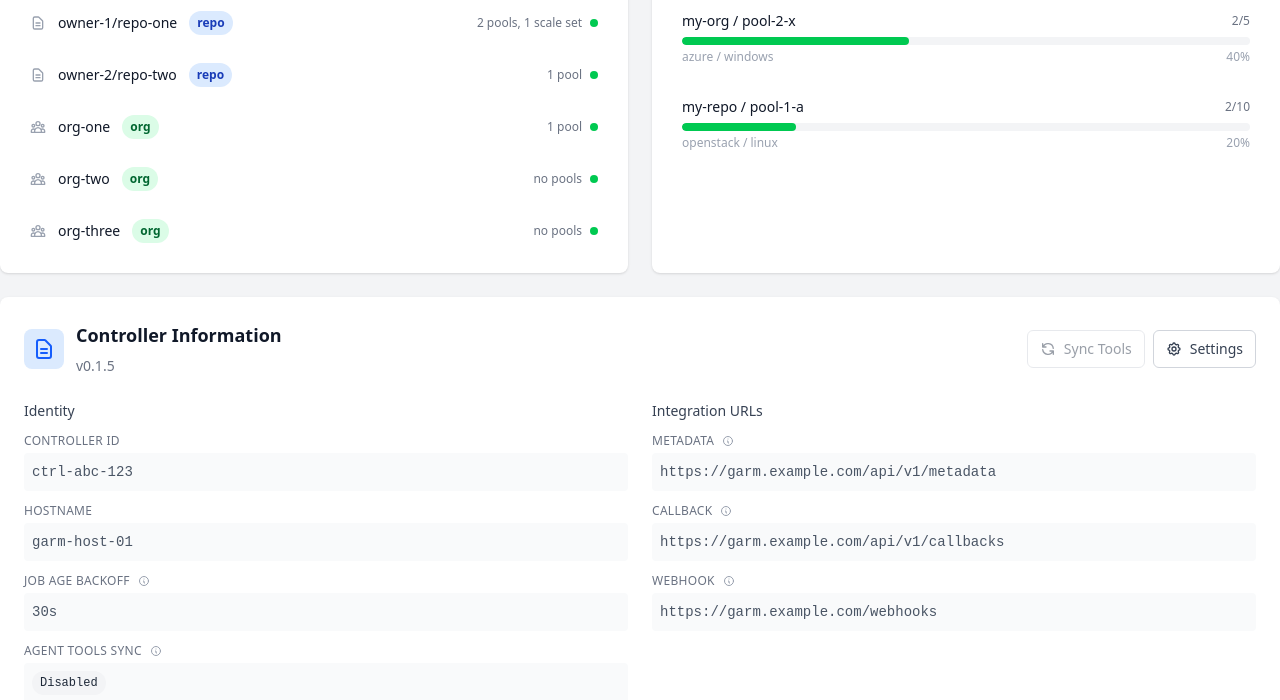
Test: Dashboard Page Integration Tests › Controller Info Card › should show the release notes of the selected version
The width and height of the screenshot is (1280, 700).
(page scrolled)
Click the button "Settings" at (1204, 349), box [1153,330,1256,368]
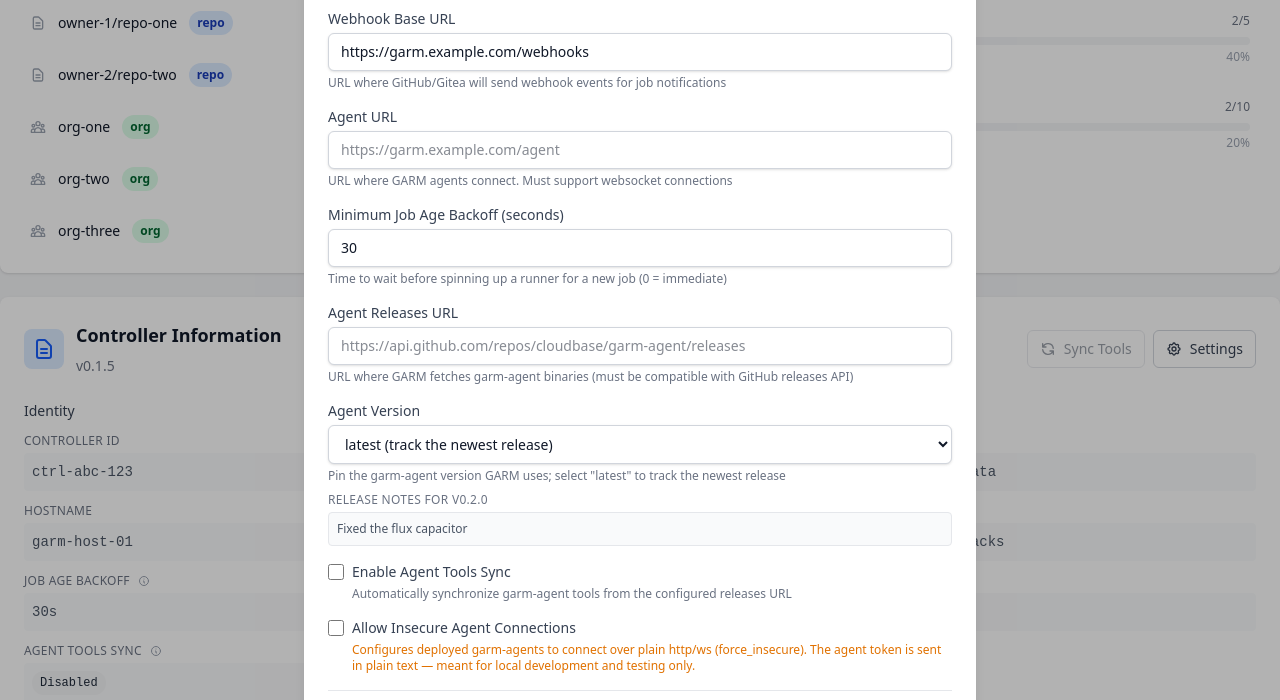
Now the dropdown with id "garmAgentVersion" is shown
Now the text with test id "agent-release-notes" reads "Fixed the flux capacitor", box [337,520,468,537]
# Selecting a specific version shows that version's notes.
Select "v0.1.0-beta1 (pre-release)" in the dropdown with id "garmAgentVersion" at (640, 444), box [328,425,952,464]
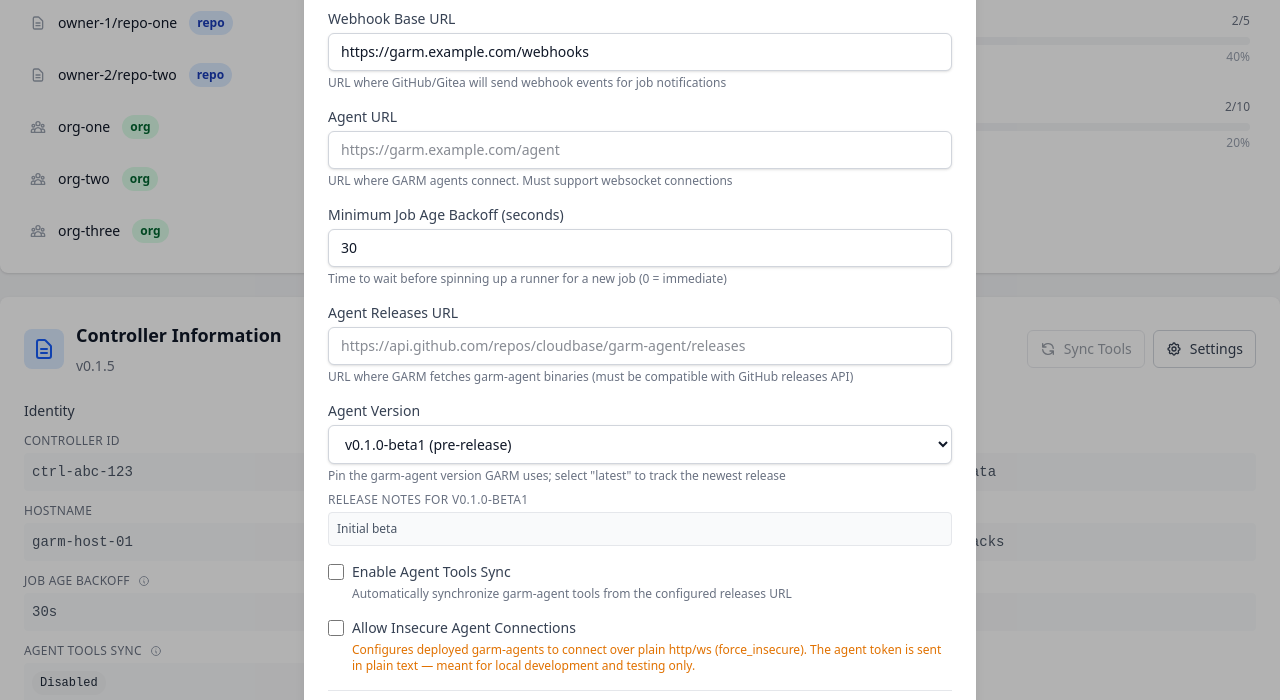
Now the text with test id "agent-release-notes" reads "Initial beta", box [337,520,397,537]
# The custom entry has no known release, so no notes are shown.
Select "Custom version..." in the dropdown with id "garmAgentVersion" at (640, 444), box [328,425,952,464]
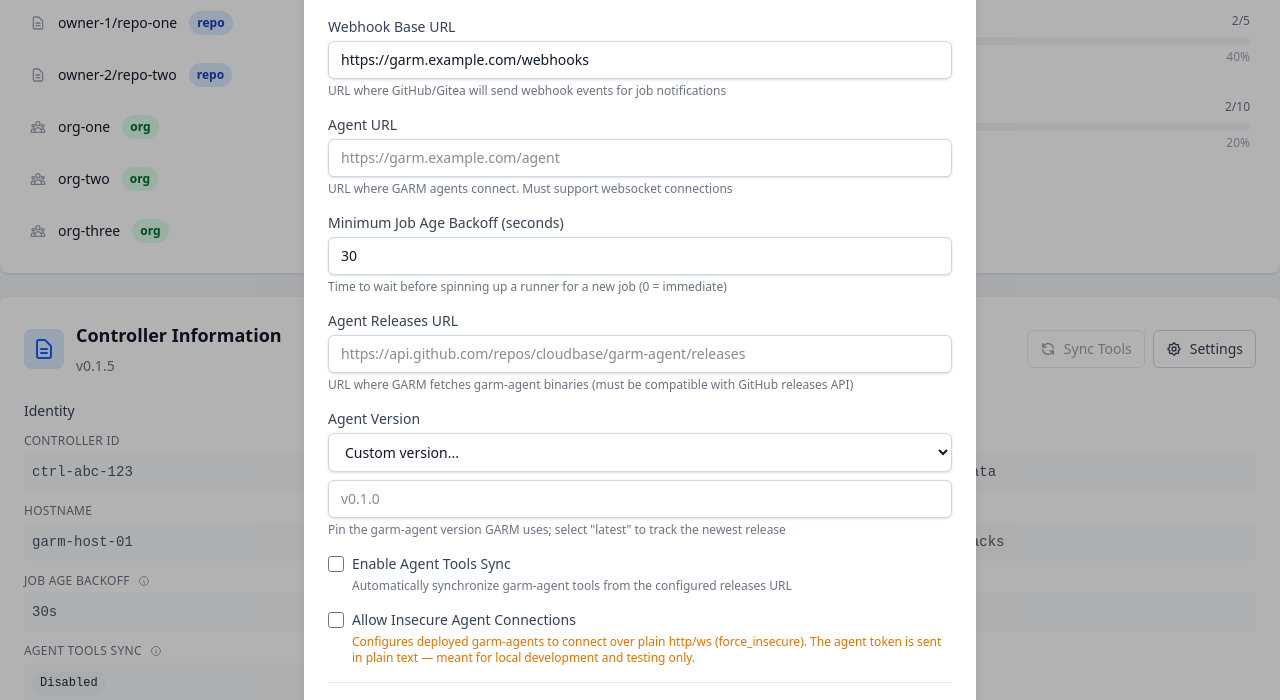
Now the text with test id "agent-release-notes" is gone
